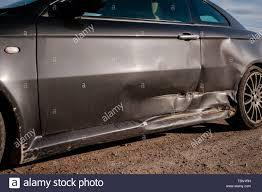RunningBoard-Dent: (141, 109, 233, 131)
doorouter-dent: (39, 23, 201, 116)
quaterpanel-dent: (201, 27, 261, 109)
